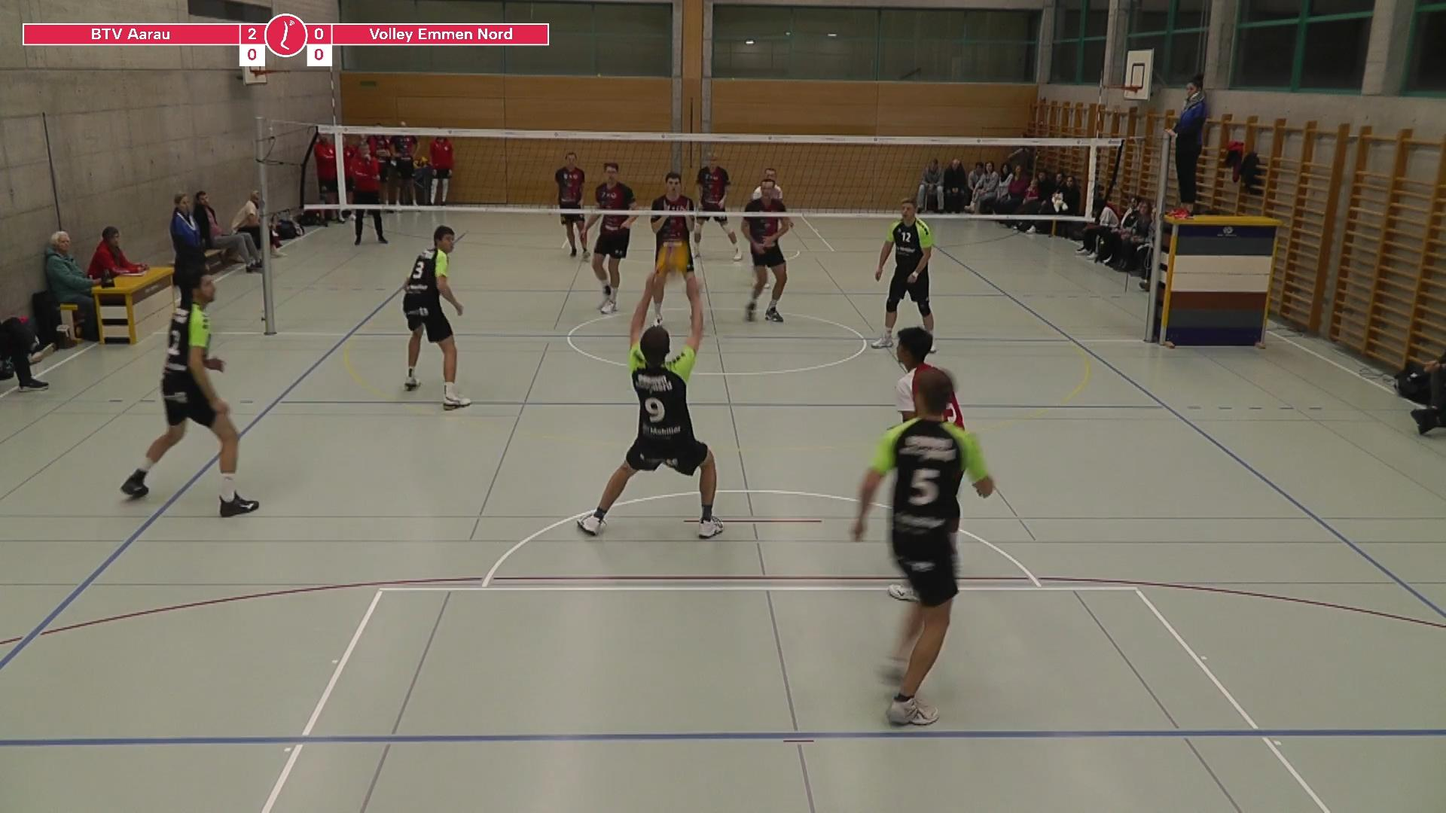ricezione: (570, 295, 733, 544)
